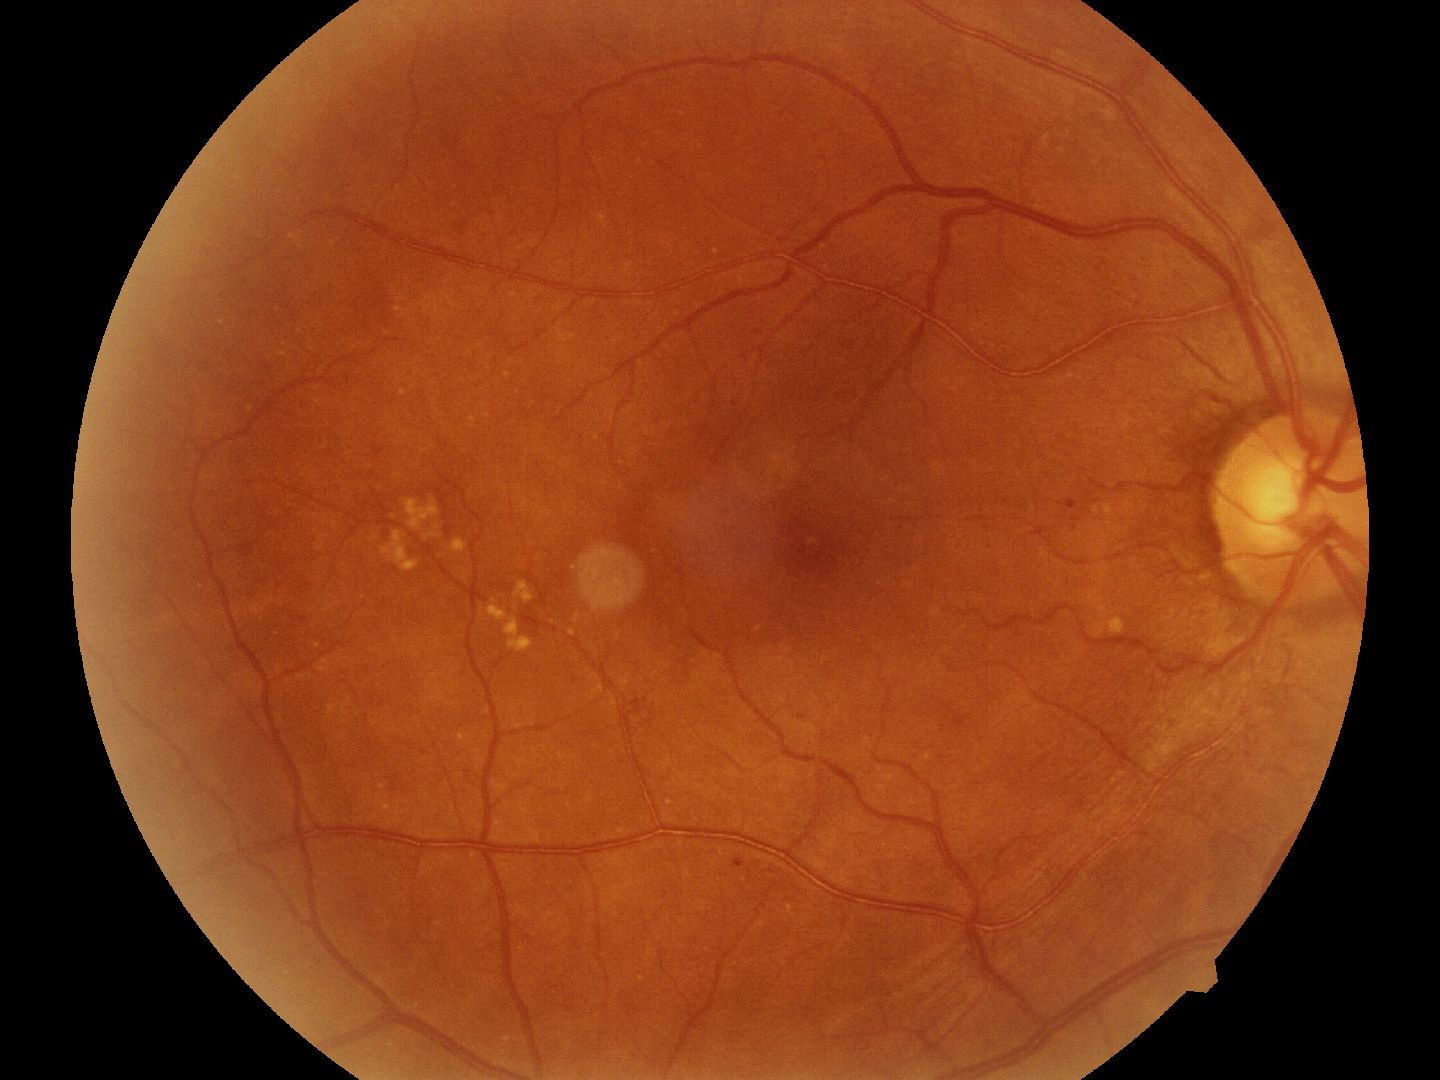Exudates: (386, 486, 551, 674)
Optic-Disc: (1213, 365, 1371, 647)
Venules: (1017, 57, 1262, 303)
